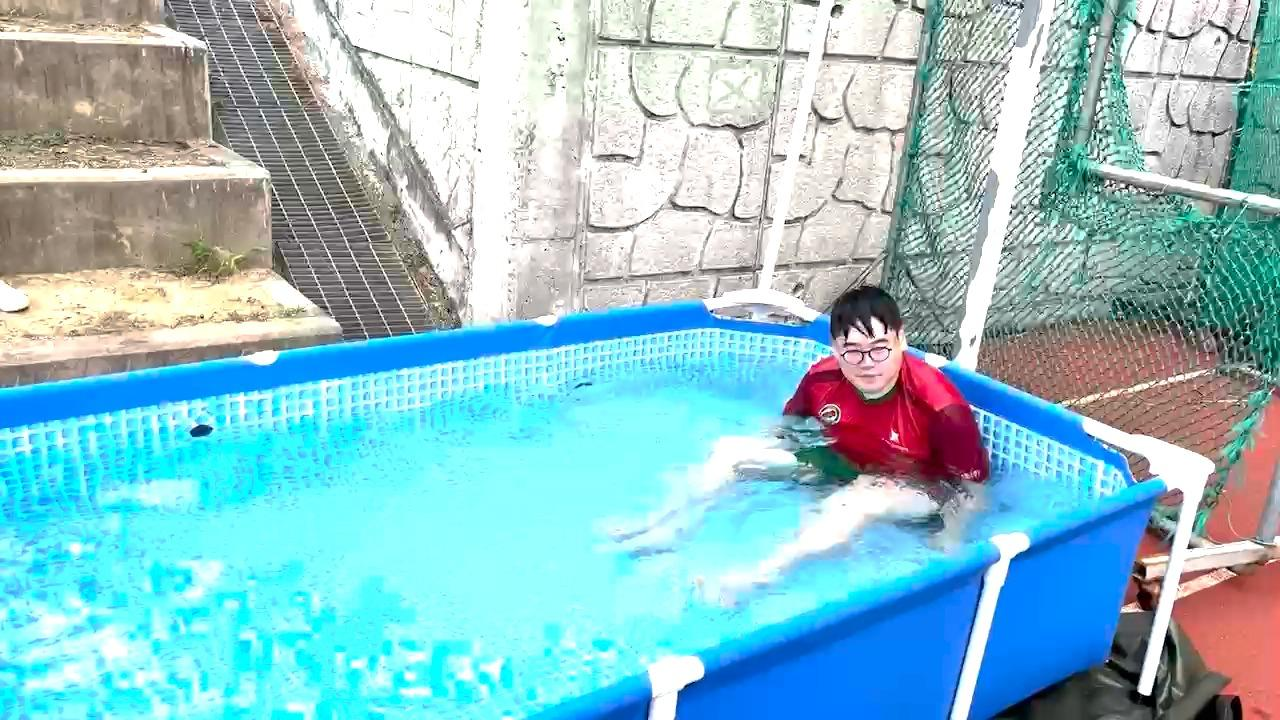Swimming: (554, 263, 1003, 622)
